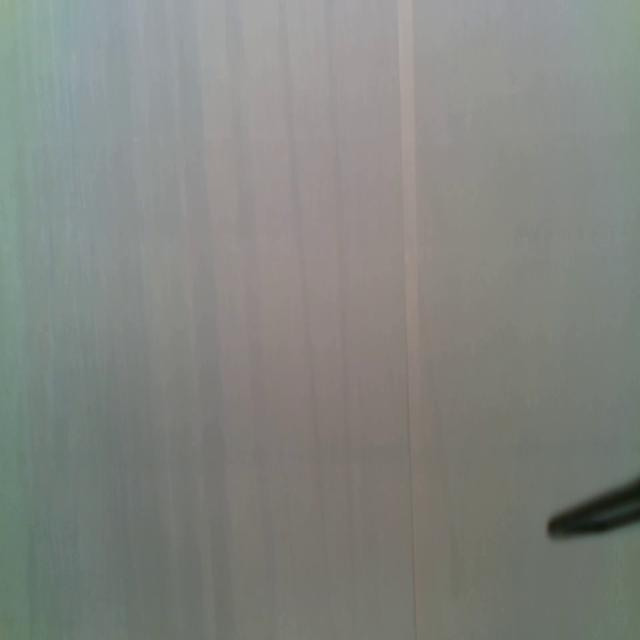crease: (396, 0, 419, 640)
